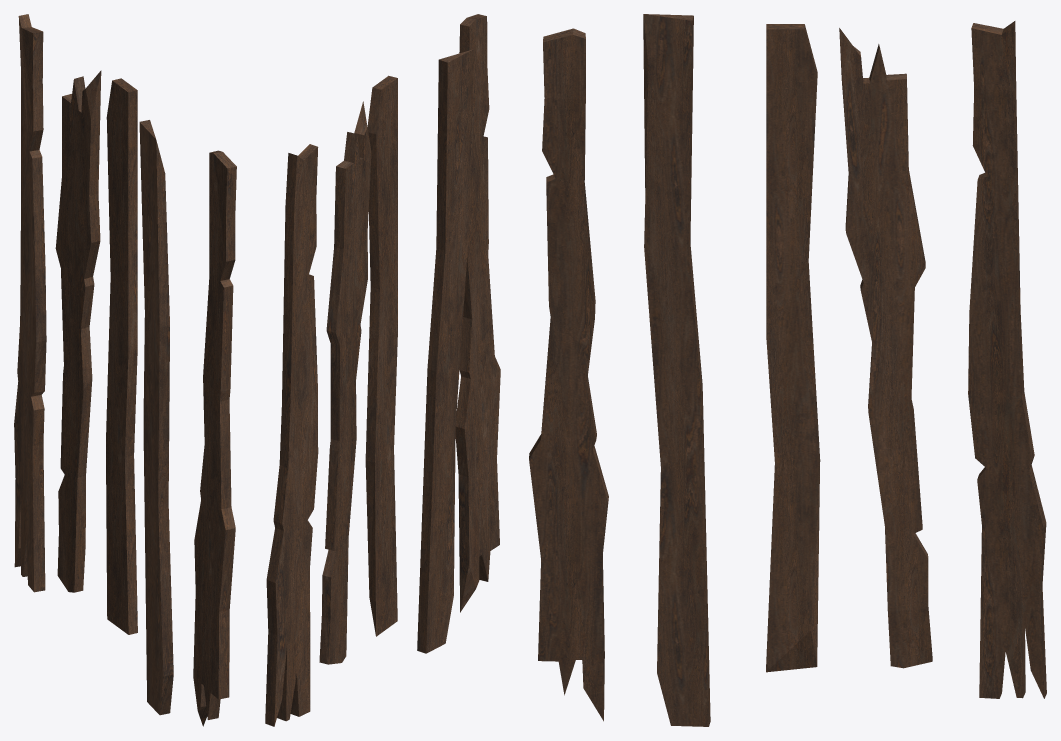
The model's file is wooden_planks.glb.
3 renders of one model, left to right at view 1: azimuth 30°, elevation 25°; view 2: azimuth 150°, elevation 25°; view 3: azimuth 270°, elevation 25°, orthographic. The views are drawn at different scales.
Visible parts, largest first — view 1: pasted__pCube9, pasted__pCube17, pasted__pCube18, pasted__pCube11, pasted__pCube12; view 2: pasted__pCube12, pasted__pCube11, pasted__pCube9, pasted__pCube18, pasted__pCube17; view 3: pasted__pCube12, pasted__pCube11, pasted__pCube9, pasted__pCube17, pasted__pCube18.
Part boxes in pixels (box(x1,y1,x2,y2)): pasted__pCube9: box(193, 150, 236, 726); pasted__pCube17: box(55, 70, 101, 592); pasted__pCube18: box(106, 78, 137, 634); pasted__pCube11: box(139, 120, 173, 715); pasted__pCube12: box(14, 14, 46, 592); pasted__pCube12: box(265, 144, 318, 726); pasted__pCube11: box(417, 49, 473, 653); pasted__pCube9: box(455, 14, 500, 612); pasted__pCube18: box(365, 75, 397, 636); pasted__pCube17: box(319, 101, 371, 664); pasted__pCube12: box(968, 21, 1046, 698); pasted__pCube11: box(643, 14, 710, 726); pasted__pCube9: box(529, 28, 608, 721); pasted__pCube17: box(839, 28, 932, 668); pasted__pCube18: box(766, 24, 820, 672).
Size of the model in its own units: 0.00805 by 0.1162 by 0.0777.
Materials: 1 (1 with a texture image).
